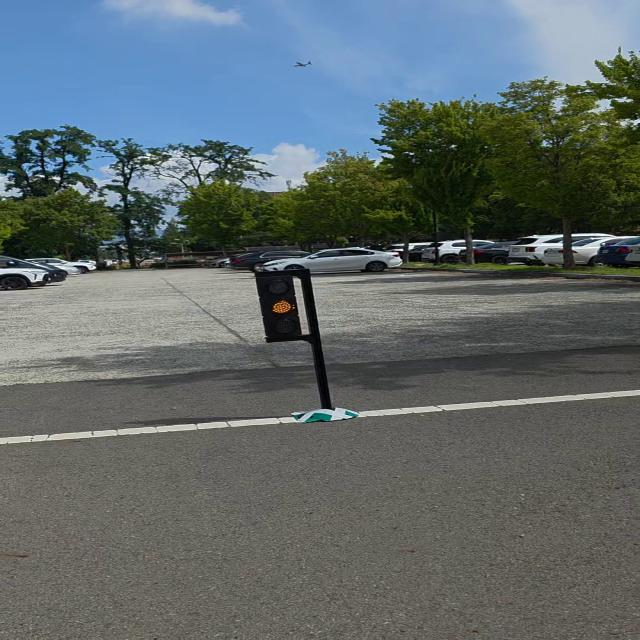yellow: (257, 276, 306, 342)
